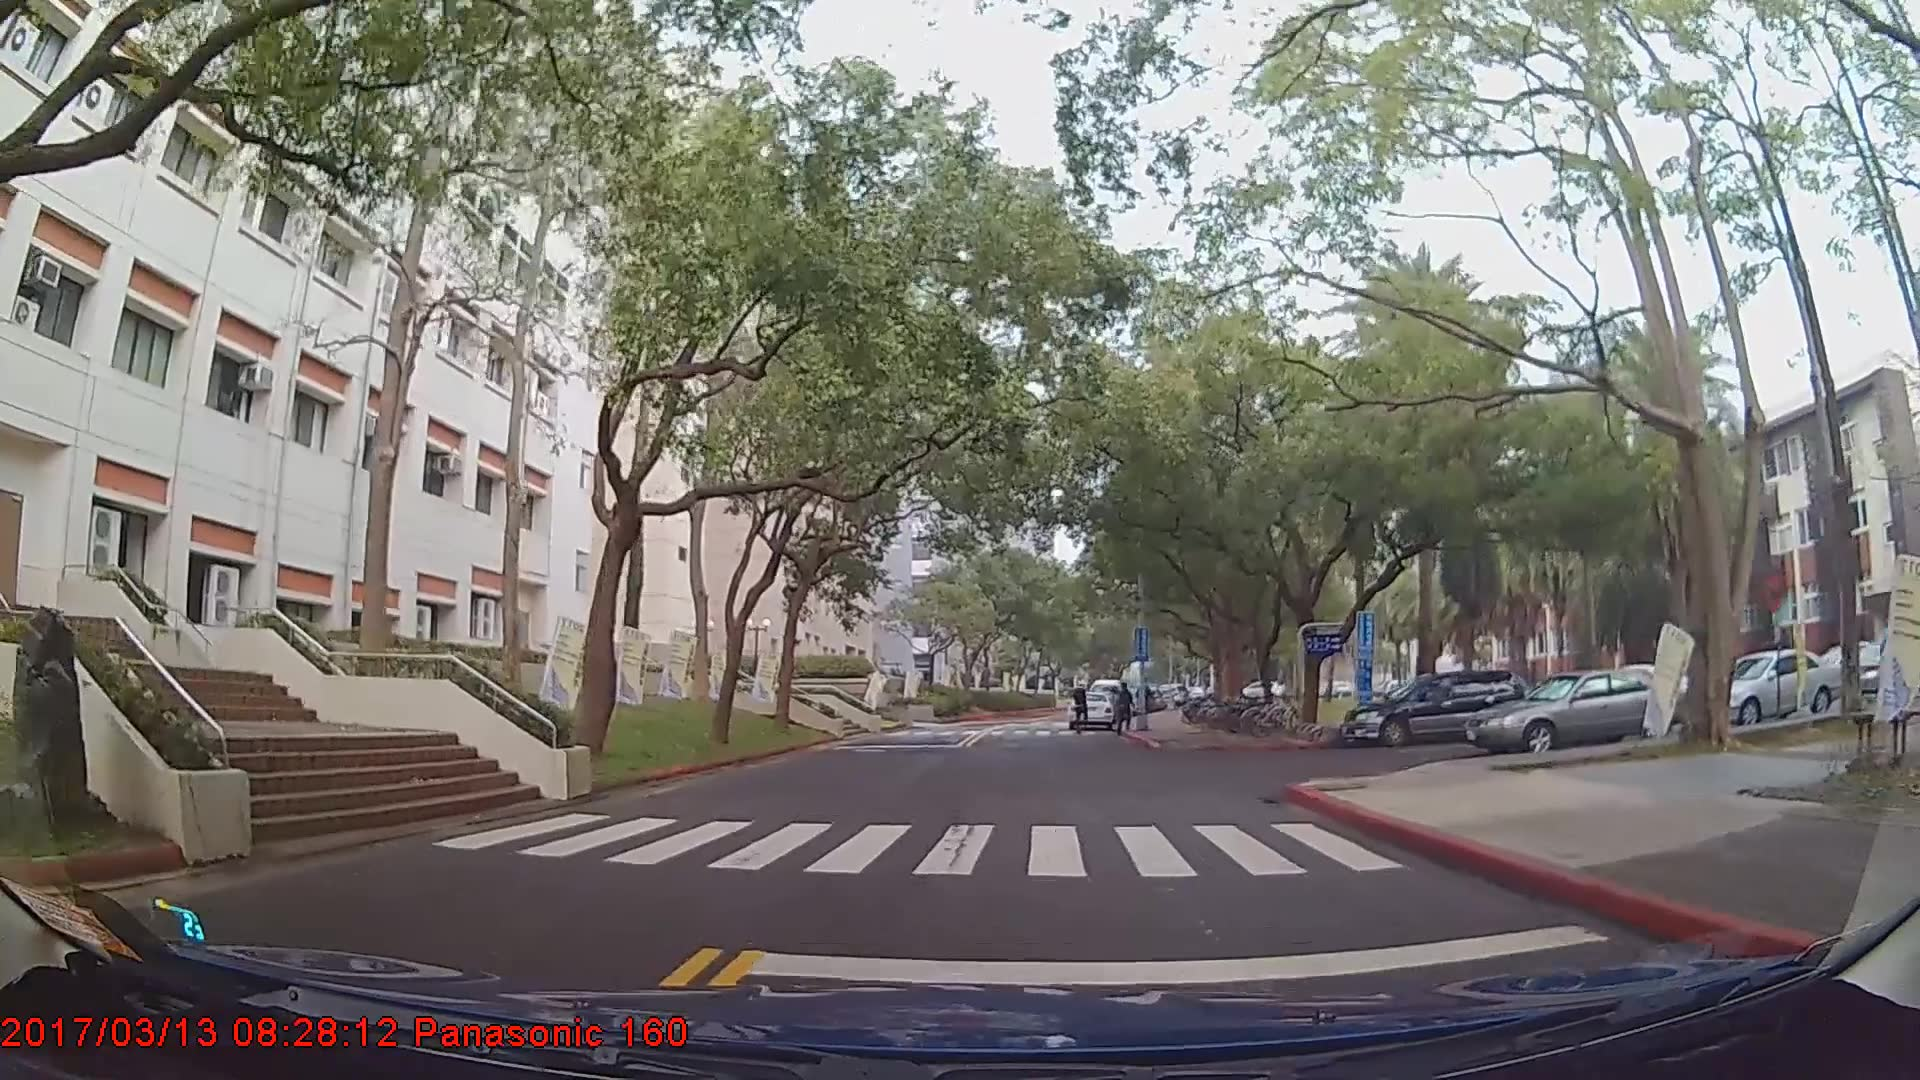pedestrian: (1871, 608, 1899, 703), (1114, 682, 1139, 733), (1073, 684, 1093, 736)
vehicle: (1466, 665, 1686, 757), (1338, 667, 1523, 749), (1706, 648, 1847, 727), (1065, 689, 1115, 730)
